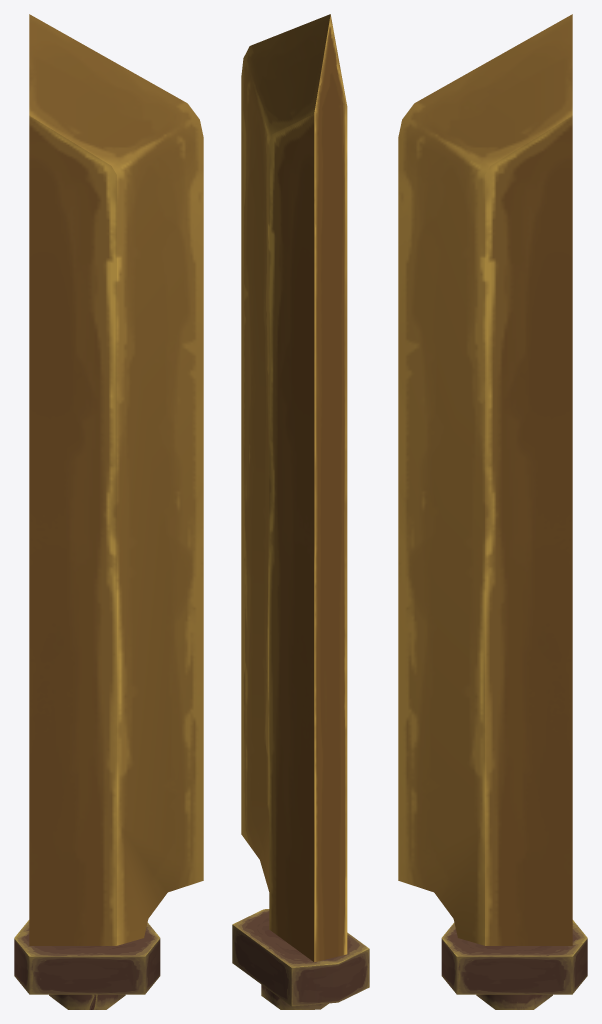
The model's file is SM_WEP_head_sword_battle_22.fbx.
The picture shows the model from 3 angles, left to right: view 1: azimuth 90°, elevation 25°; view 2: azimuth 210°, elevation 25°; view 3: azimuth 270°, elevation 25°; orthographic projection. The views are drawn at different scales.
Visible parts, largest first — view 1: SM_WEP_head_sword_battle_22; view 2: SM_WEP_head_sword_battle_22; view 3: SM_WEP_head_sword_battle_22.
Boxes of the visible parts, x1,y1,x2,y2 form: SM_WEP_head_sword_battle_22: (14, 14, 203, 1009); SM_WEP_head_sword_battle_22: (232, 14, 369, 1009); SM_WEP_head_sword_battle_22: (398, 14, 587, 1009).
Size of the model in its own units: 9.81 by 120 by 21.08.
